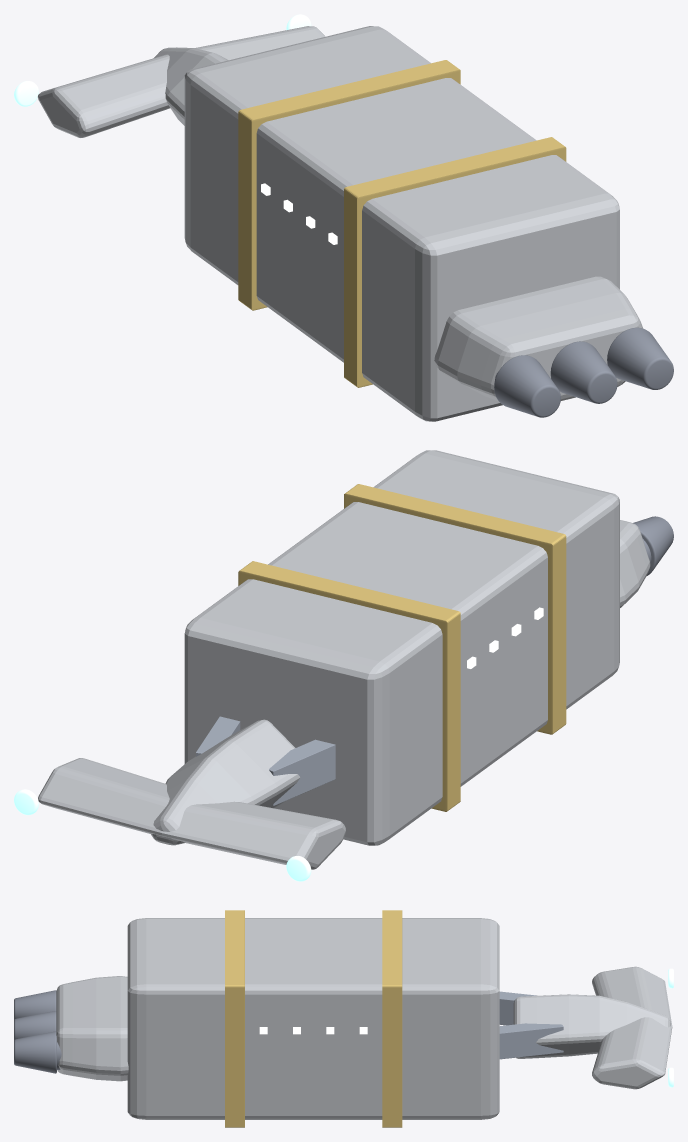
File: consortium-galactica-freighter.glb
3 renders of one model, top to bottom at view 1: azimuth 30°, elevation 25°; view 2: azimuth 150°, elevation 25°; view 3: azimuth 270°, elevation 25°, orthographic. The views are drawn at different scales.
Visible parts, largest first — view 1: Cube, hull.001, hammer, Cube.001, Cube.002, Cone, Cone.001, Cone.002, hull; view 2: Cube, hammer, hull, Cube.001, Cube.002, Cube.011, hull.001, Cone, Cube.012; view 3: Cube, hull.001, hammer, hull, Cube.001, Cube.002, Cube.012, Cone.002, Cone, Cone.001, Cube.011.
Part boxes in pixels (left/top/right/bottom): Cube: left=184, top=26, right=619, bottom=421; hull.001: left=434, top=276, right=643, bottom=401; hammer: left=38, top=26, right=325, bottom=137; Cube.001: left=238, top=60, right=460, bottom=310; Cube.002: left=344, top=137, right=566, bottom=387; Cone: left=494, top=355, right=560, bottom=417; Cone.001: left=550, top=341, right=617, bottom=403; Cone.002: left=607, top=327, right=673, bottom=389; hull: left=154, top=47, right=228, bottom=125; Cube: left=184, top=450, right=619, bottom=845; hammer: left=38, top=758, right=345, bottom=869; hull: left=151, top=719, right=300, bottom=845; Cube.001: left=238, top=561, right=460, bottom=811; Cube.002: left=344, top=484, right=566, bottom=734; Cube.011: left=269, top=739, right=335, bottom=805; hull.001: left=620, top=520, right=650, bottom=607; Cone: left=633, top=516, right=673, bottom=576; Cube.012: left=196, top=716, right=240, bottom=756; Cube: left=127, top=918, right=499, bottom=1119; hull.001: left=56, top=976, right=128, bottom=1081; hammer: left=592, top=966, right=672, bottom=1089; hull: left=513, top=994, right=670, bottom=1058; Cube.001: left=382, top=910, right=402, bottom=1127; Cube.002: left=225, top=910, right=244, bottom=1127; Cube.012: left=499, top=1023, right=563, bottom=1059; Cone.002: left=14, top=1031, right=56, bottom=1073; Cone: left=14, top=990, right=56, bottom=1019; Cone.001: left=14, top=1011, right=56, bottom=1040; Cube.011: left=499, top=991, right=536, bottom=1025.
Bounding box in the file's own units: 1.78 × 1.1 × 4.61.
